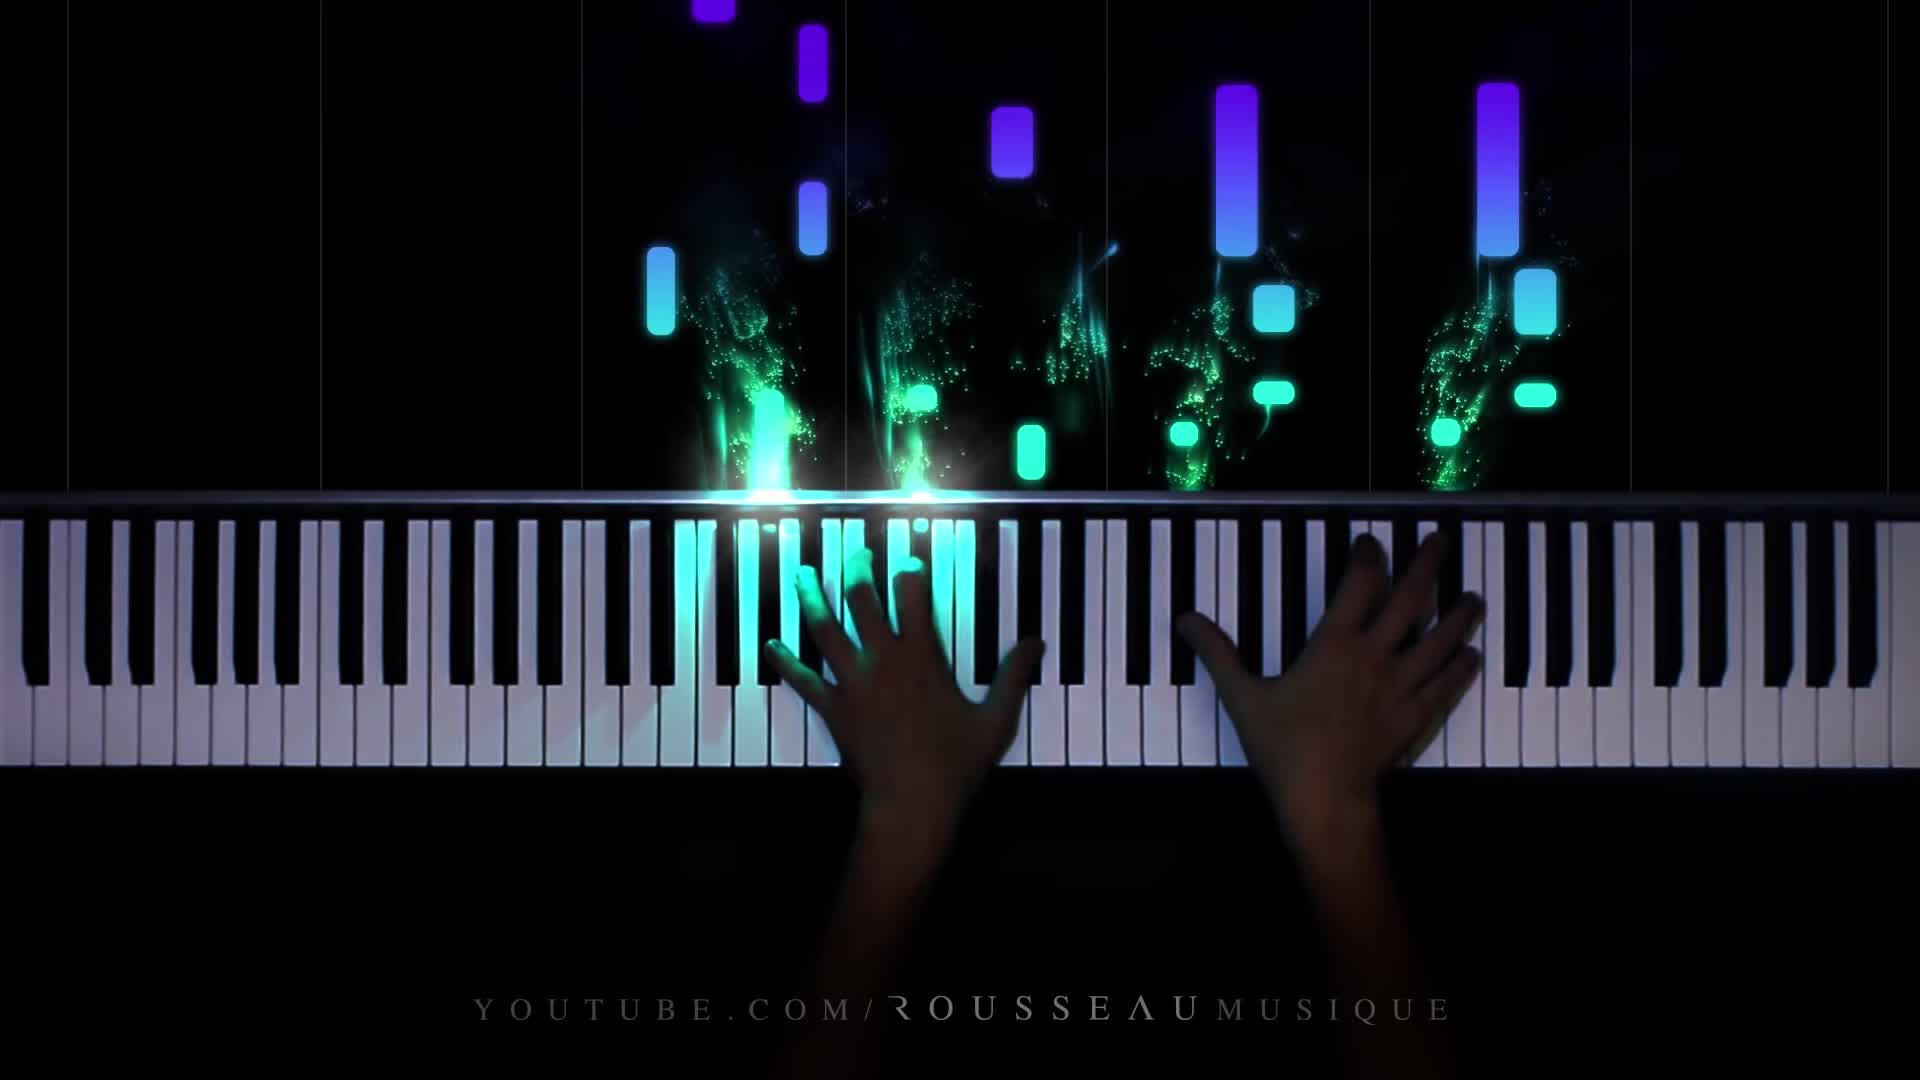left: (767, 549, 1048, 814)
right: (1175, 530, 1484, 793)
